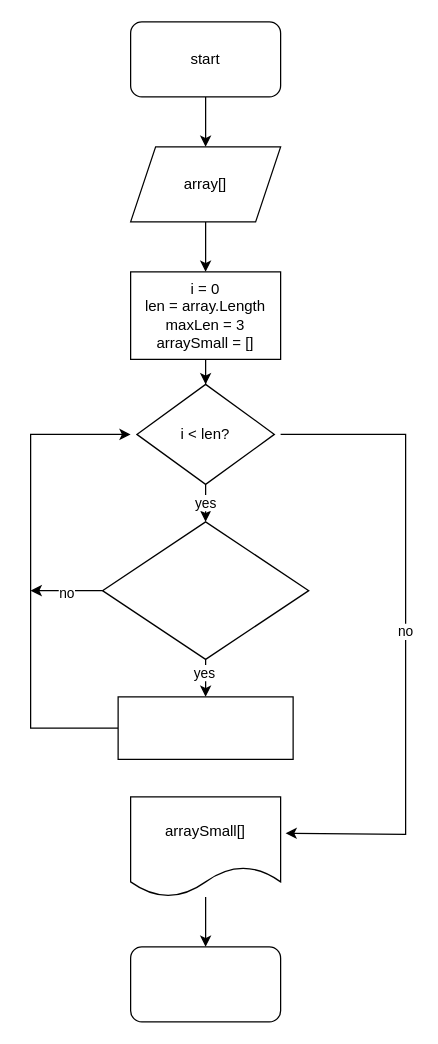
Image size: 438x1044. Some labels were removed from this diagram. The shapes that lost their labels are listed below. From the top down, each one's centre as x and y in pixels, then its label:
pixel 205 590: array[i].Length < maxLen
pixel 205 727: arraySmall.Add(array[I]) i++
pixel 205 984: end
